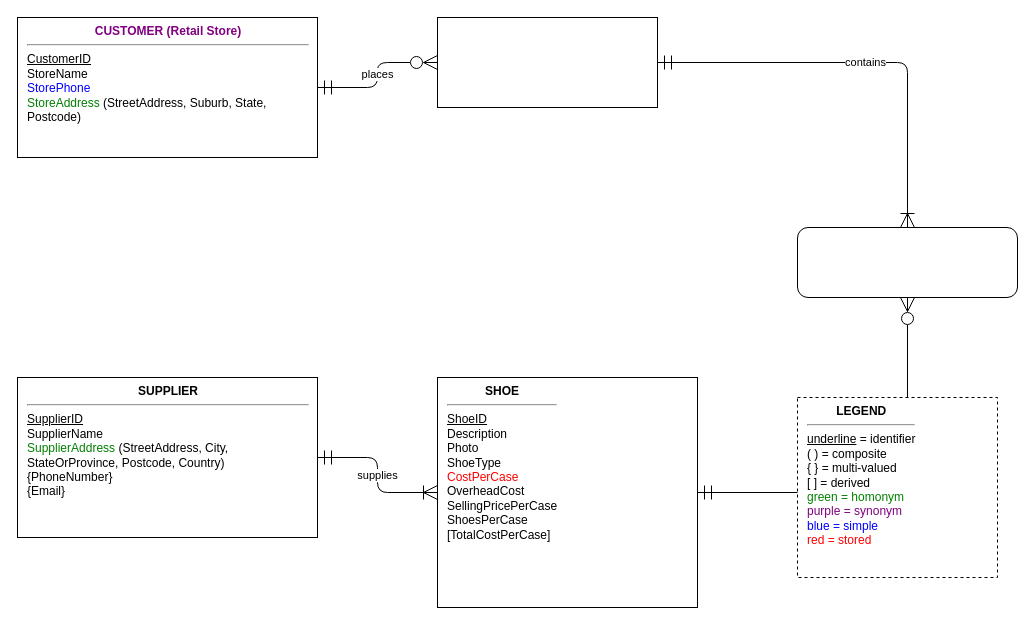
Image size: 1035x625. Some labels were removed from this diagram. Each missing label, with the box of its shape:
ORDER LINE QuantityOfCases: (796, 226, 1018, 298)
ORDER OrderID OrderDate: (436, 16, 658, 108)
